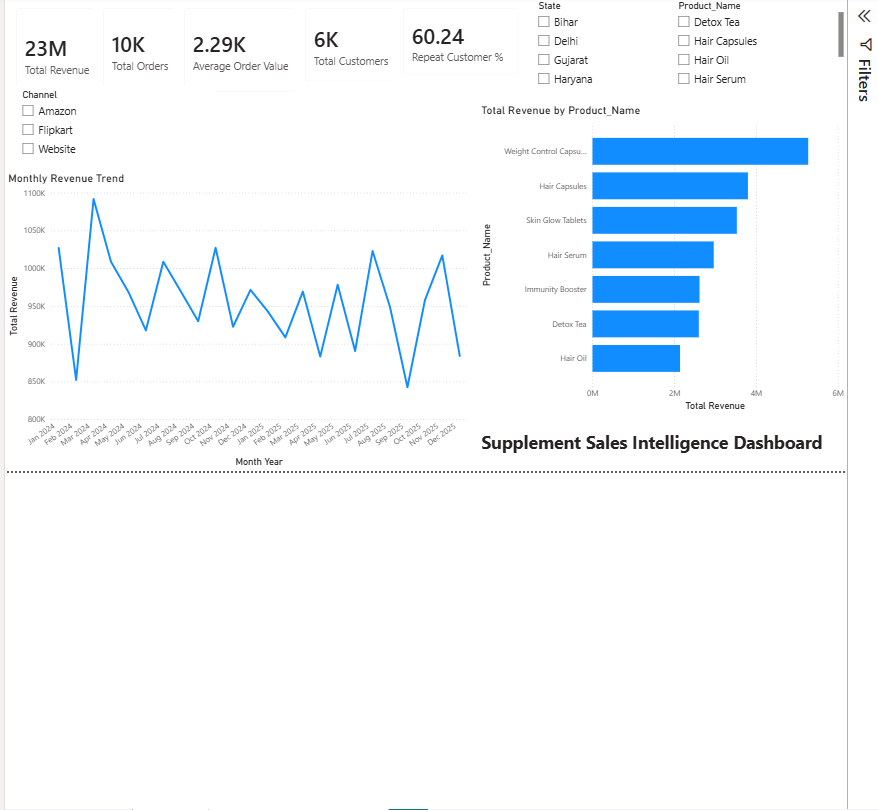

Layout of this report page (visuals, bound fields, positions):
{"tool":"powerbi","page":{"name":"Page 1","canvas":[1280,720],"ordinal":0},"visuals":[{"type":"cardVisual","fields":{"Data":["dashboard_data.Total Revenue"]},"box":[0,0,167.2,173.3],"z":0},{"type":"cardVisual","fields":{"Data":["dashboard_data.Total Orders"]},"box":[132.3,0,165.7,161.1],"z":1},{"type":"cardVisual","fields":{"Data":["dashboard_data.Average Order Value"]},"box":[255.4,0,223.5,161.1],"z":2},{"type":"cardVisual","fields":{"Data":["dashboard_data.Total Customers"]},"box":[439.3,0,185.5,145.9],"z":3},{"type":"cardVisual","fields":{"Data":["dashboard_data.Repeat Customer %"]},"box":[588.3,0,209.8,135.3],"z":4},{"type":"lineChart","title":"Monthly Revenue Trend","fields":{"Y":["dashboard_data.Total Revenue"],"Category":["dashboard_data.Month Year"]},"box":[0,264.5,706.9,454.5],"z":5},{"type":"clusteredBarChart","fields":{"Category":["dashboard_data.Product_Name"],"Y":["dashboard_data.Total Revenue"]},"box":[719,161.1,561,472.8],"z":6},{"type":"slicer","fields":{"Values":["dashboard_data.State"]},"box":[798.1,0,241.7,145.9],"z":8},{"type":"slicer","fields":{"Values":["dashboard_data.Product_Name"]},"box":[1010.9,0,269.1,145.9],"z":9},{"type":"slicer","fields":{"Values":["dashboard_data.Channel"]},"box":[13.7,135.3,307.1,120.1],"z":10},{"type":"textbox","box":[719,653.7,561,65.4],"z":11}]}

Visuals, with their boxes on the page's 1280x720 design canvas (x1, y1, x2, y2). These are canvas units, not pixel positions in the 878x810 screenshot, which may show the page scaled, cropped or inside an application window:
cardVisual - dashboard_data.Total Revenue: [left=0, top=0, right=167, bottom=173]
cardVisual - dashboard_data.Total Orders: [left=132, top=0, right=298, bottom=161]
cardVisual - dashboard_data.Average Order Value: [left=255, top=0, right=479, bottom=161]
cardVisual - dashboard_data.Total Customers: [left=439, top=0, right=625, bottom=146]
cardVisual - dashboard_data.Repeat Customer %: [left=588, top=0, right=798, bottom=135]
"Monthly Revenue Trend" lineChart: [left=0, top=264, right=707, bottom=719]
clusteredBarChart - dashboard_data.Product_Name x dashboard_data.Total Revenue: [left=719, top=161, right=1280, bottom=634]
slicer - dashboard_data.State: [left=798, top=0, right=1040, bottom=146]
slicer - dashboard_data.Product_Name: [left=1011, top=0, right=1280, bottom=146]
slicer - dashboard_data.Channel: [left=14, top=135, right=321, bottom=255]
textbox: [left=719, top=654, right=1280, bottom=719]
